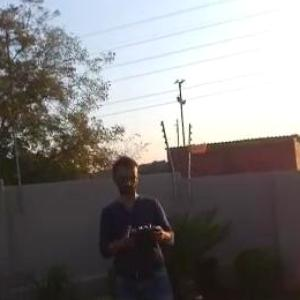follow: (96, 146, 195, 299)
